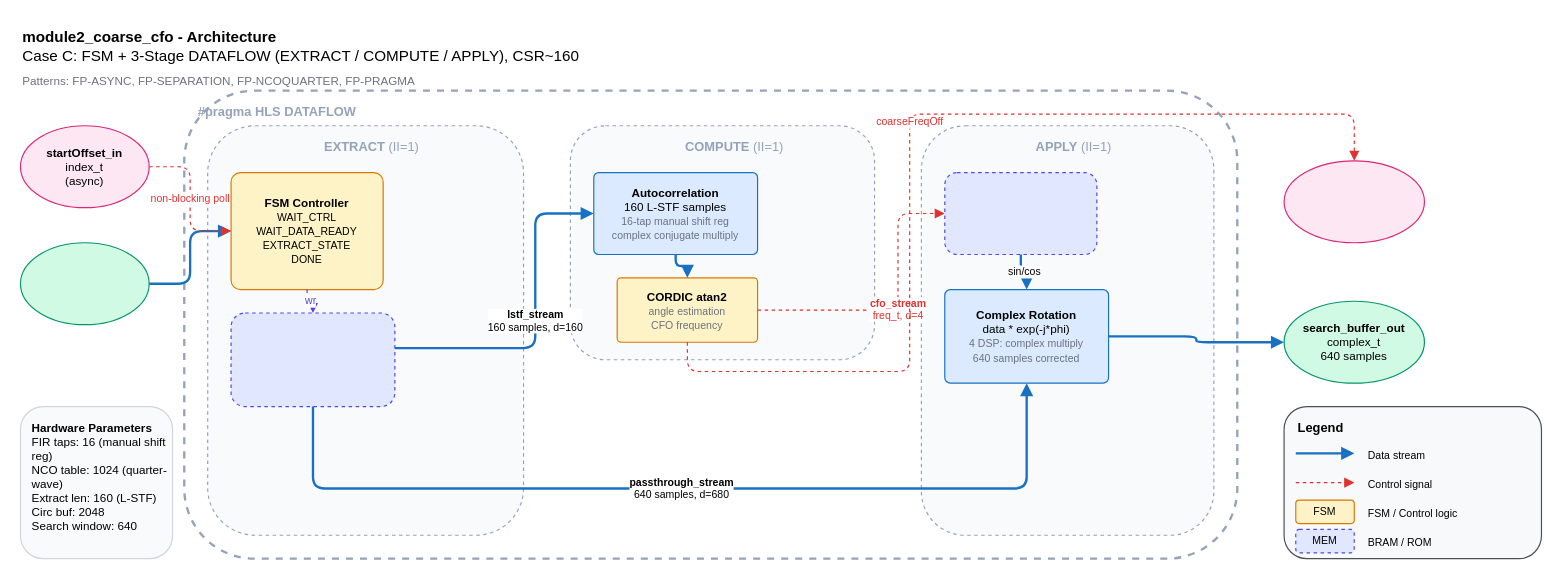
The diagram is 1562 pixels wide and 579 high, and some of its shapes have lost their labels. The box of each missing label's shape, as (x1, y1, x2, y2) in pixels:
circ_buf[2048] complex_t BRAM, BUF_MASK=2047 offset-aware replay: (230, 312, 395, 407)
coarseFreqOff_out freq_t (scalar): (1283, 160, 1424, 243)
data_in complex_t 26105 samples: (19, 242, 149, 325)
NCO LUT sin/cos[1024] quarter-wave ROM_2P phase accumulator: (944, 171, 1097, 254)
